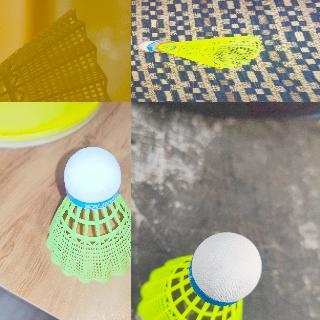shuttlecock: (45, 145, 130, 284), (0, 9, 122, 101), (137, 233, 262, 319), (138, 35, 262, 69)
